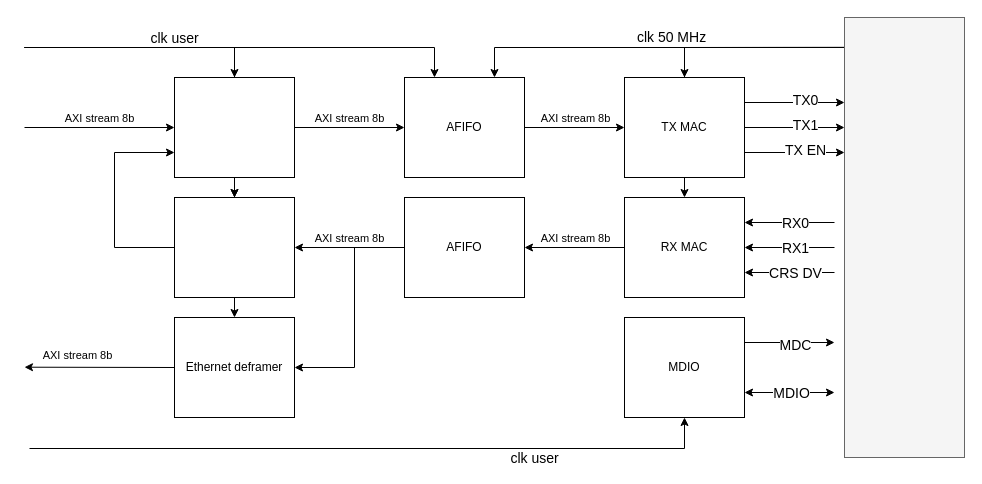
Some shapes in this 982 by 484 pixel diagram are drawn without their labels. Here are the shapes that lost their labels. From the top down, the box of each, then its label:
(174, 76, 294, 178): Ethernet framer
(174, 196, 294, 298): ARP RX & TX
(844, 16, 964, 458): LAN8720
